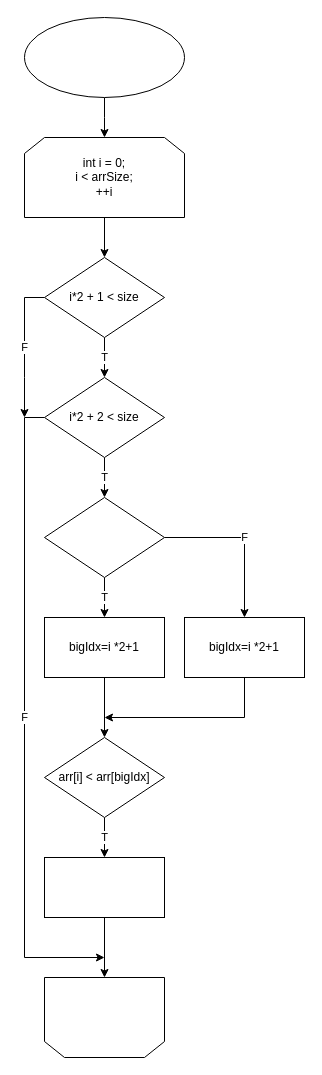
Some shapes in this 322 by 1075 pixel diagram are drawn without their labels. Here are the shapes that lost their labels. From the top down, the box of each, then its label:
(24, 16, 184, 98): MakeMaxHeap
(44, 496, 164, 578): Find BigChild arr[i*2+1] > arr[i*2+2]
(44, 856, 164, 918): swap(arr[i], arr[bigIdx])
